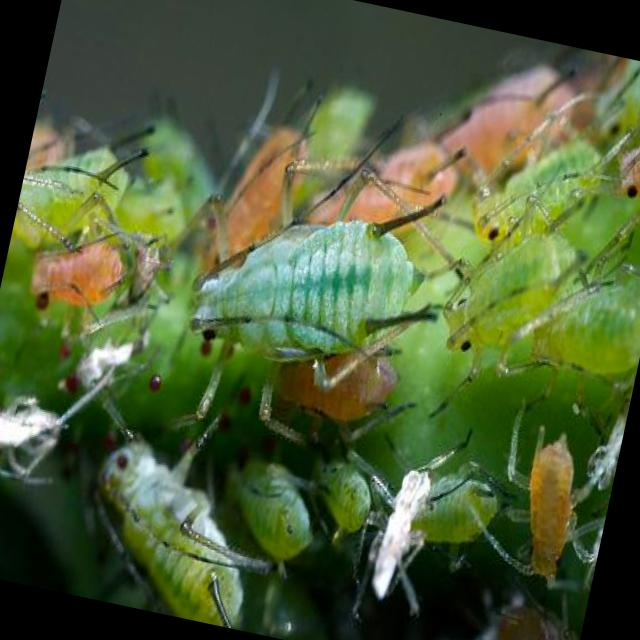Aphid: (150, 152, 463, 441), (61, 423, 322, 640), (430, 198, 613, 406), (462, 405, 622, 622), (447, 100, 630, 280)
